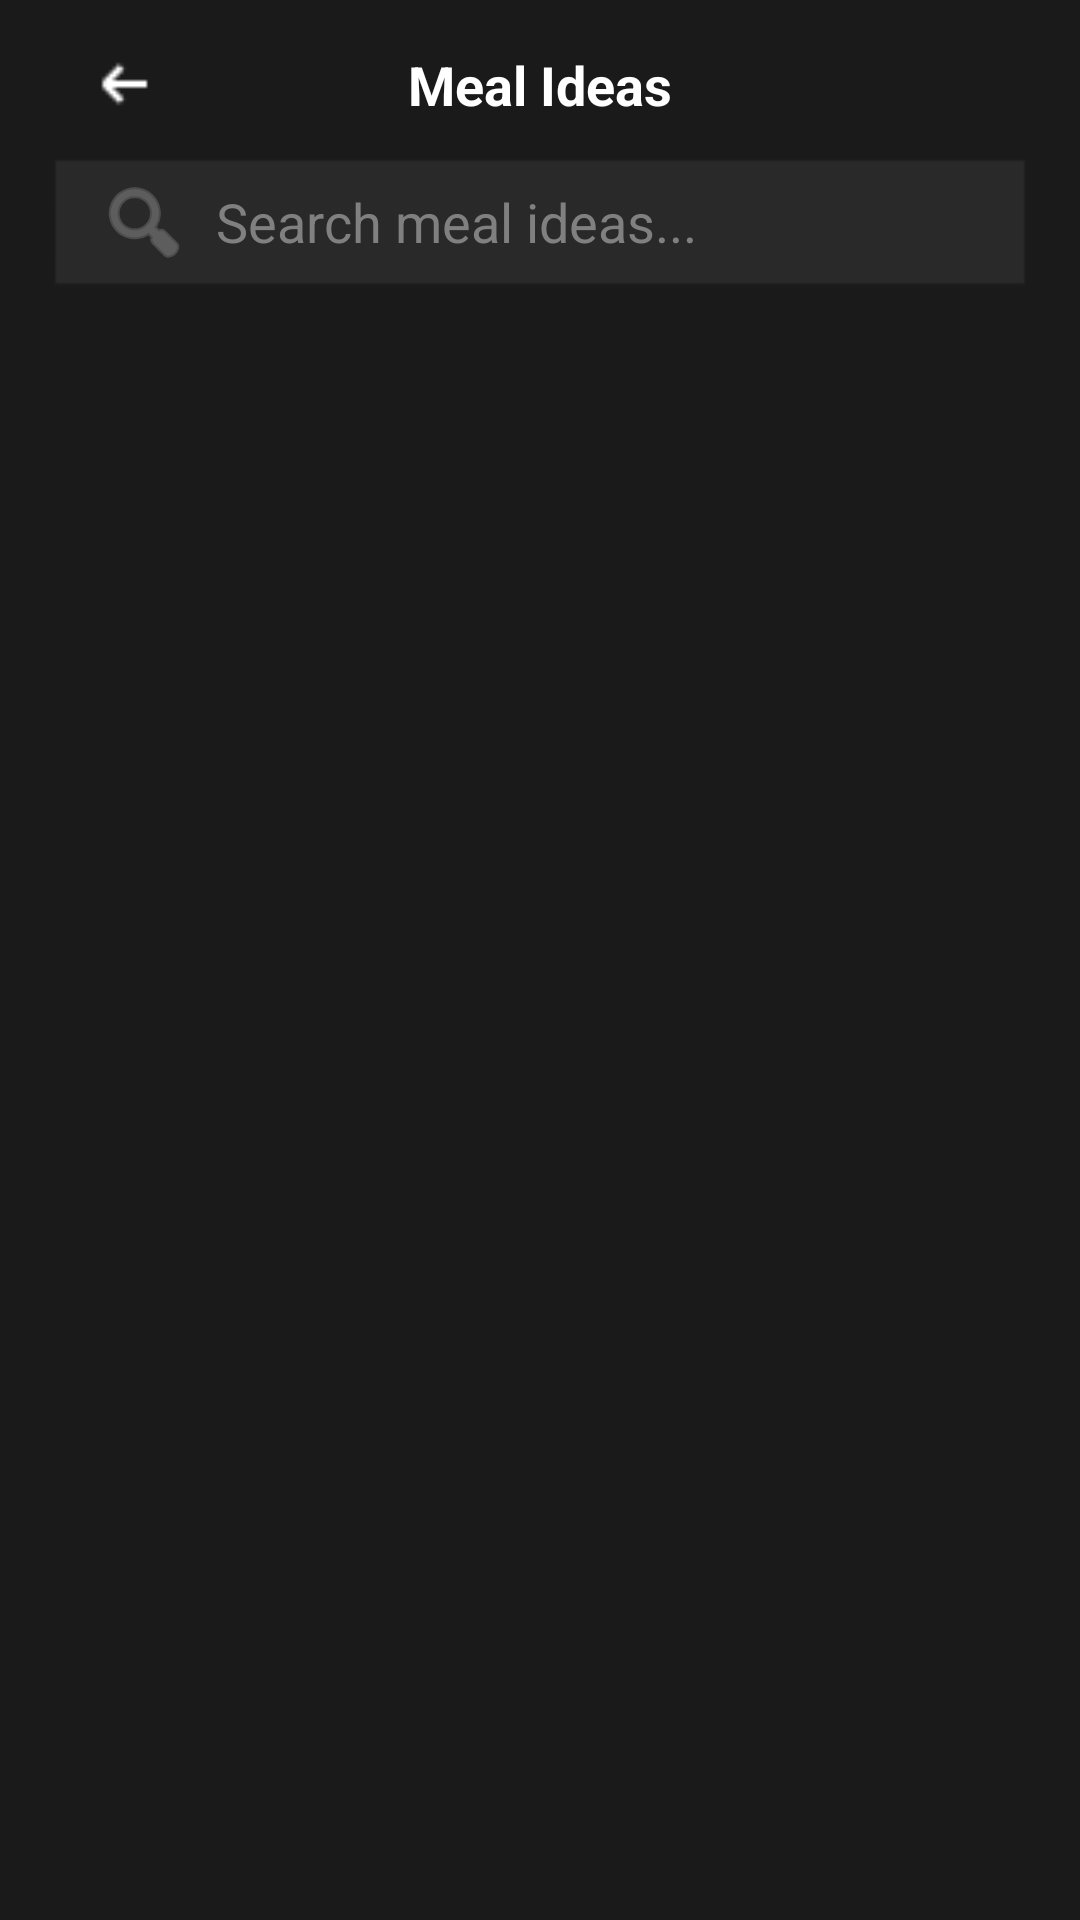

Screen size 1080x1920. Icon name, then its box in pixels as {"x1": x1, "y1": y1, "x2": x2, "y2": y2}:
Back: {"x1": 101, "y1": 63, "x2": 148, "y2": 105}
